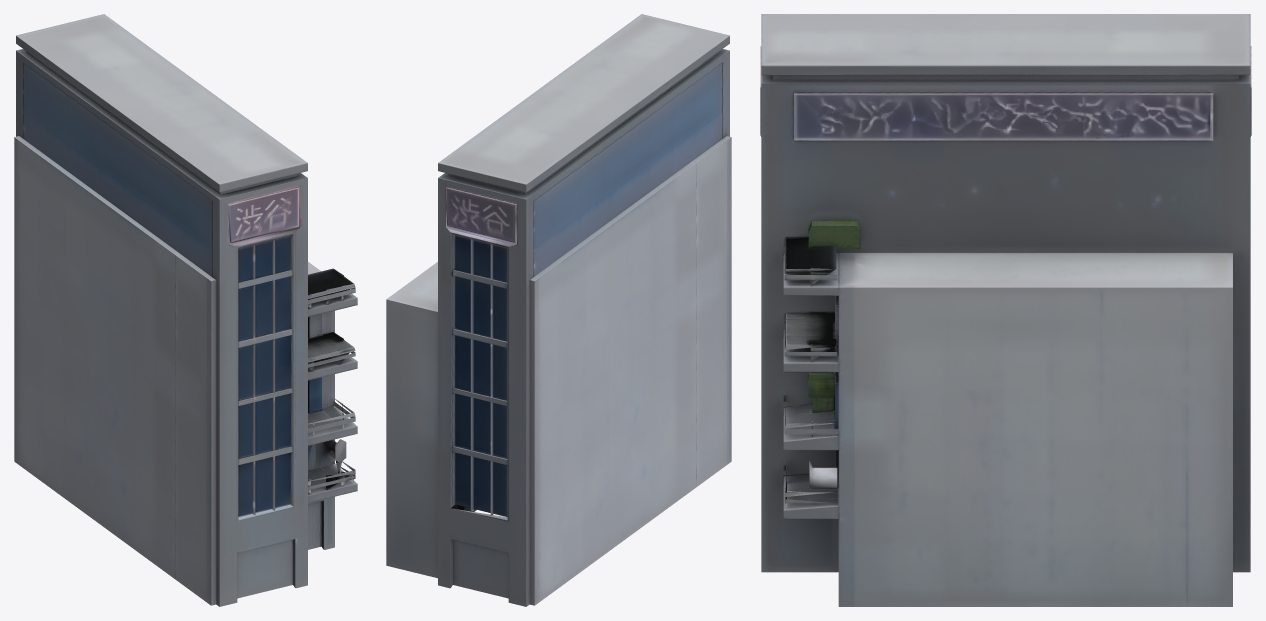
Rendered from edificio1.obj.
3 views of the same model, side by side, from view 1: azimuth 30°, elevation 25°; view 2: azimuth 150°, elevation 25°; view 3: azimuth 270°, elevation 25° (orthographic). The views are drawn at different scales.
Parts seen in each view (by area): view 1: model; view 2: model; view 3: model.
Part boxes in pixels (left/top/right/bottom): model: left=14, top=14, right=357, bottom=606; model: left=386, top=14, right=731, bottom=606; model: left=760, top=14, right=1251, bottom=606.
Bounding box in the file's own units: 0.7018 × 1.86 × 1.63.
1 material, 1 textured.
